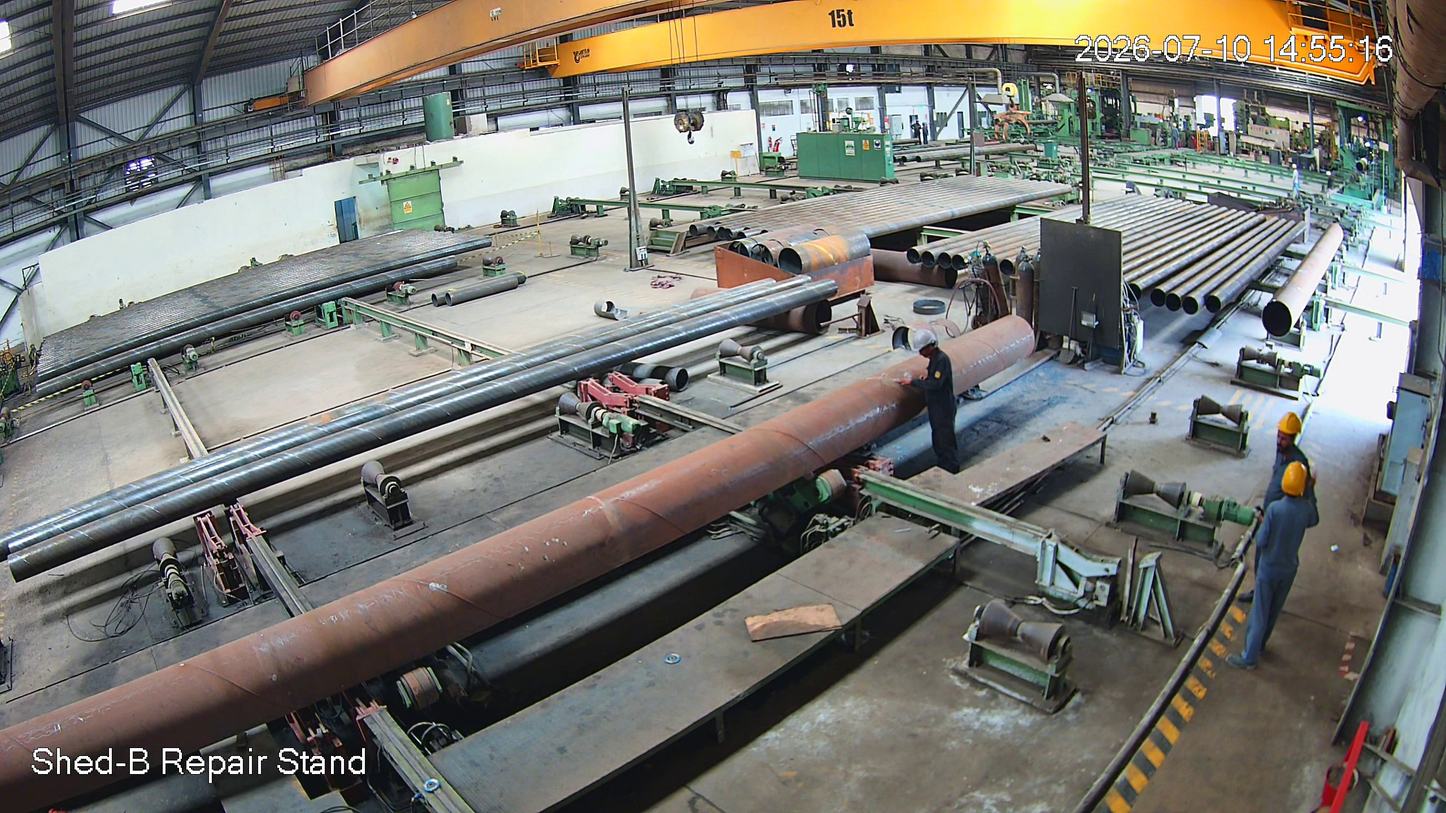Helmet: (1265, 401, 1306, 468), (1264, 455, 1307, 508), (909, 326, 943, 368)
Person: (1223, 460, 1322, 670), (906, 330, 969, 478), (1254, 407, 1312, 529)
